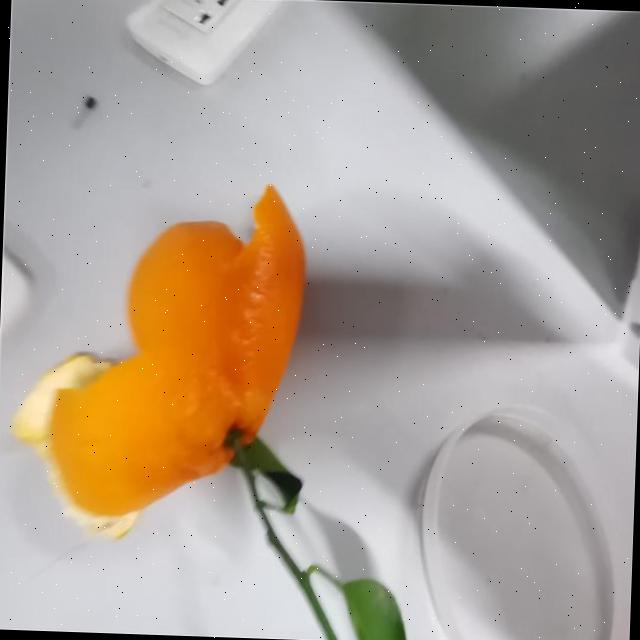orange-peel: (33, 173, 311, 530)
